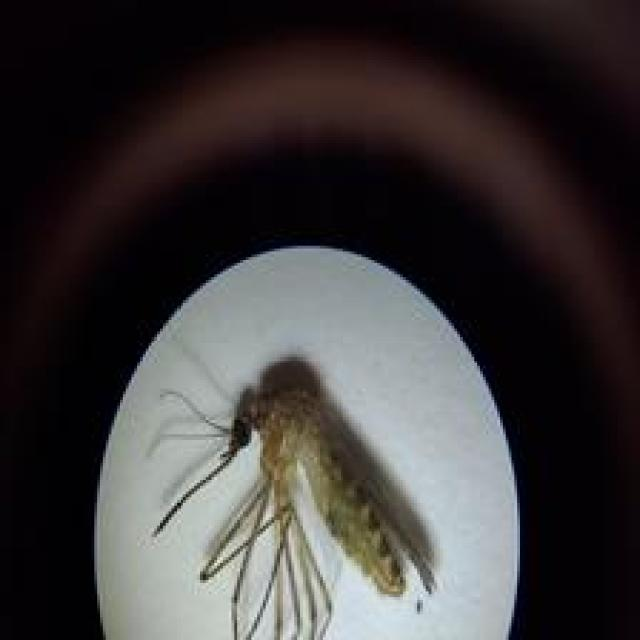Culex: (146, 343, 440, 640)
